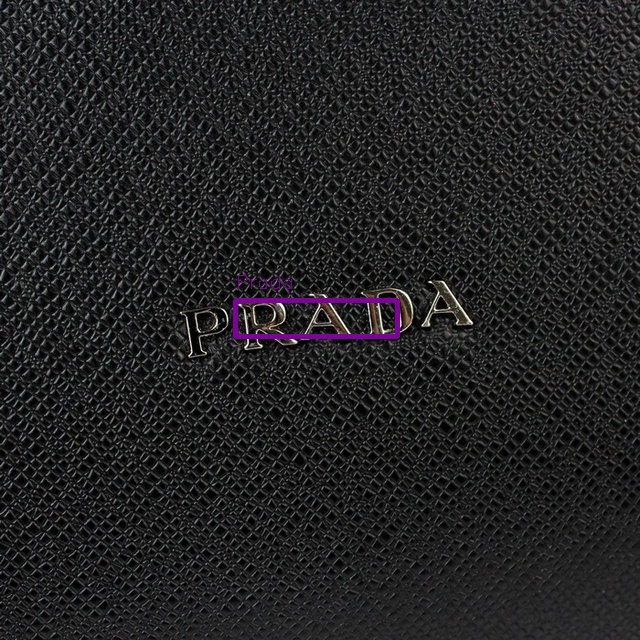Prada: (162, 277, 485, 359)
